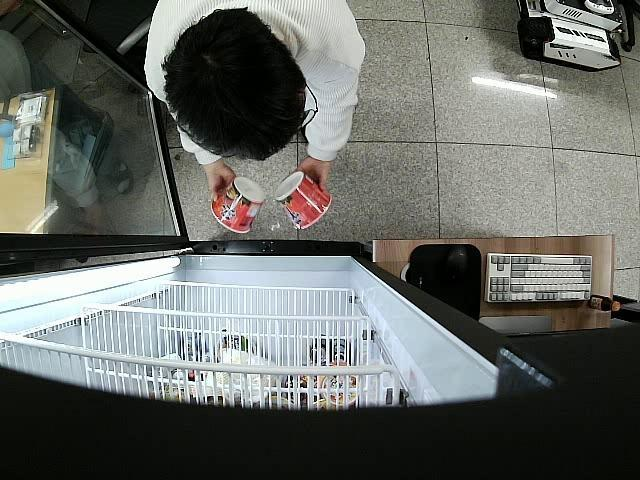01_ShinRamen_L: (210, 176, 266, 235), (274, 172, 332, 228)
